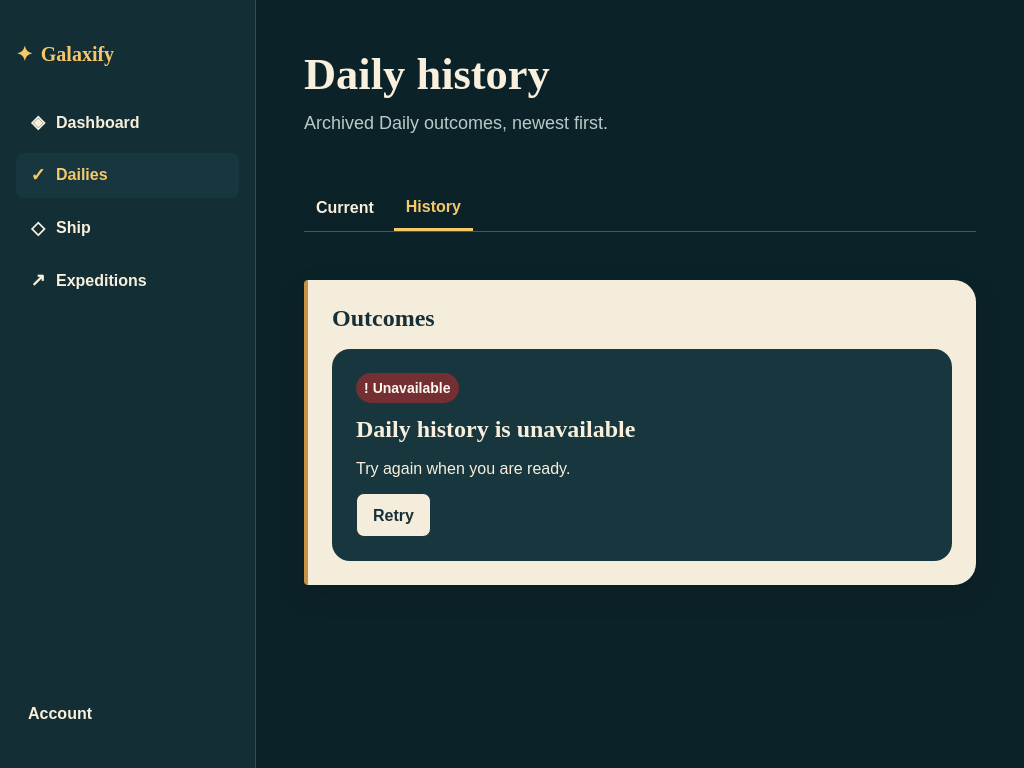
/dailies/history › shows an unavailable state on initial failure and recovers
Check: the heading "Daily history" is shown, box [304,49,550,99]
Check: the heading "Daily history is unavailable" is shown, box [356,416,635,442]
Click the button "Retry": (393, 515) [356,493,431,537]
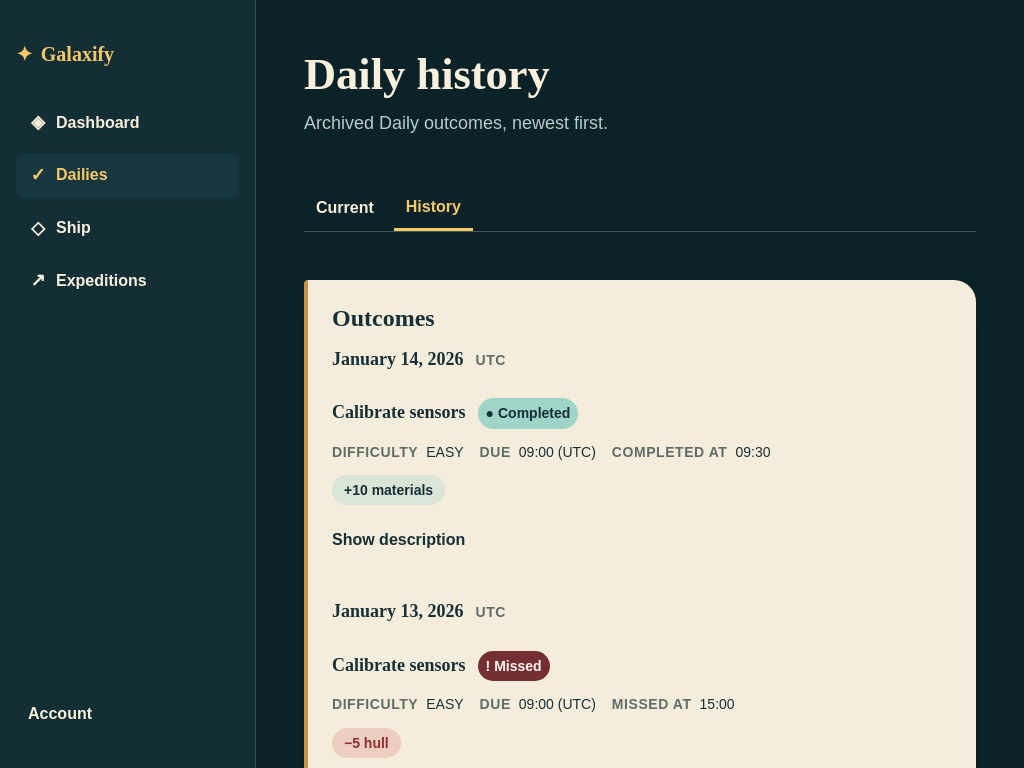
Check: the heading "January 14, 2026 UTC" is shown, box [332,349,506,369]
Check: the text "+10 materials" is shown, box [332,475,445,505]
